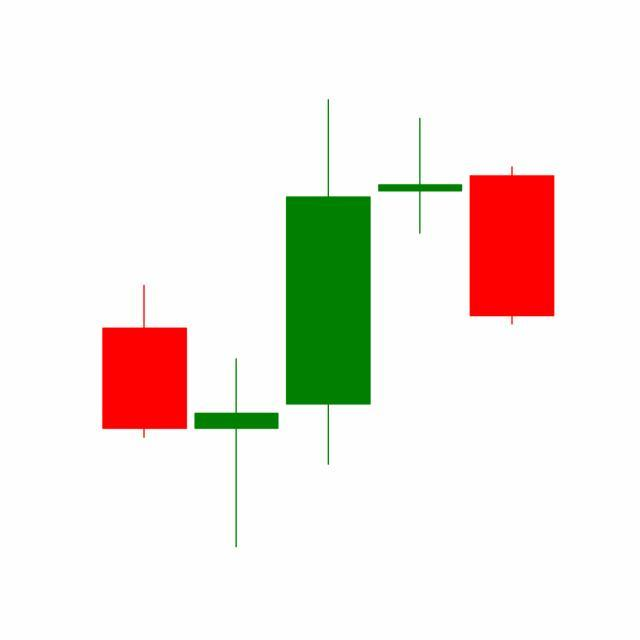Evening Doji Star: (280, 100, 555, 471)
